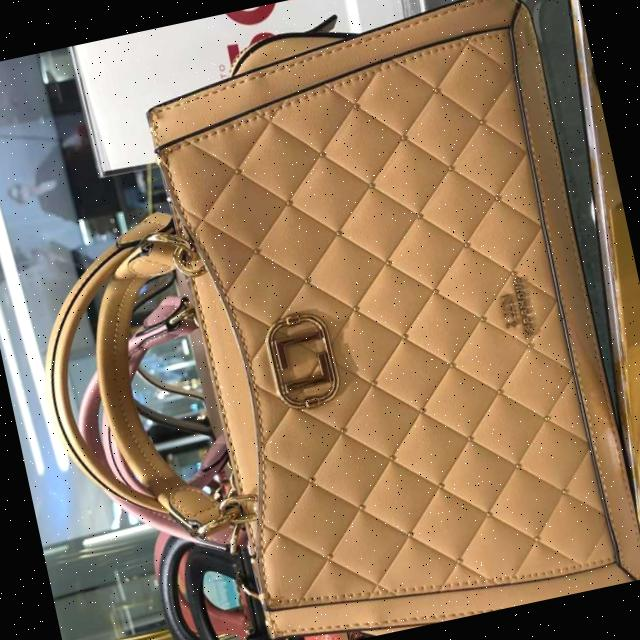Handbag: (113, 0, 640, 640)
